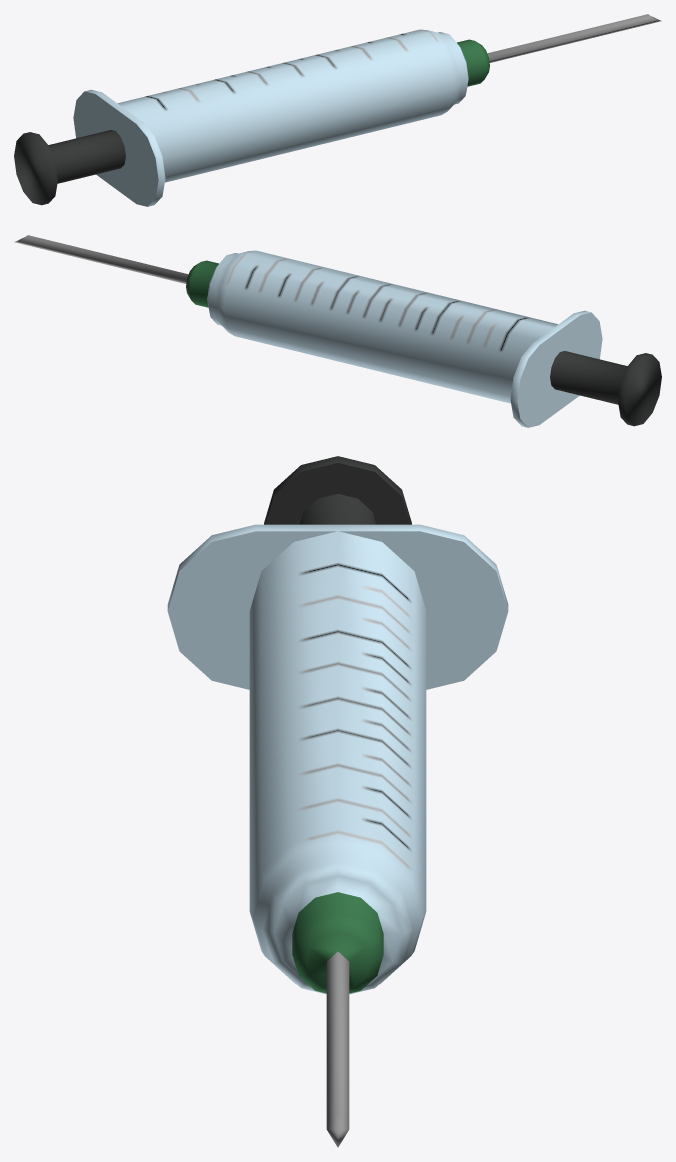
File: Item_LabSyringe.fbx
3 views of the same model, one above another, from view 1: azimuth 30°, elevation 25°; view 2: azimuth 150°, elevation 25°; view 3: azimuth 270°, elevation 25° (orthographic). The views are drawn at different scales.
Parts seen in each view (by area): view 1: Syringe; view 2: Syringe; view 3: Syringe.
Part boxes in pixels (box(x1,y1,x2,y2)): Syringe: box(14, 14, 661, 206); Syringe: box(14, 235, 661, 427); Syringe: box(167, 456, 508, 1147).
Bounding box in the file's own units: 0.1118 × 0.0136 × 0.0262.
